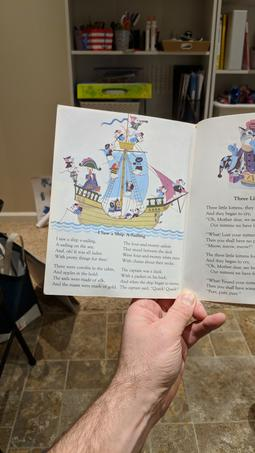text block: (197, 191, 255, 296), (49, 232, 121, 296), (112, 236, 181, 294)
